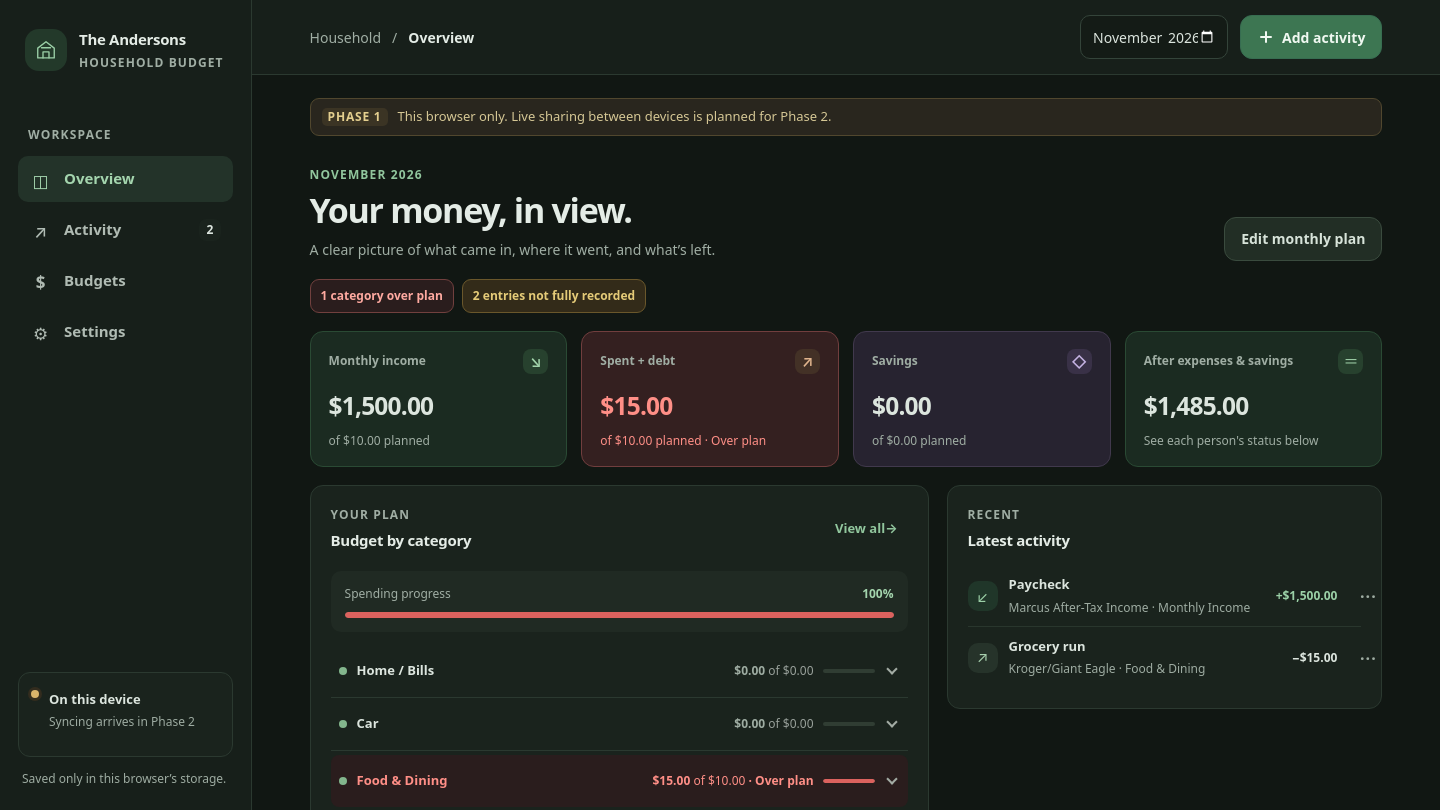
Test case: budget app phase 1 › uses the household name and highlights overspending but not income
This screenshot has width=1440, height=810.
Expected: the text "The Andersons" is shown, [79,29,186,49]
Click the button "$ Budgets" at (126, 280), box [18,258,233,304]
(page scrolled)
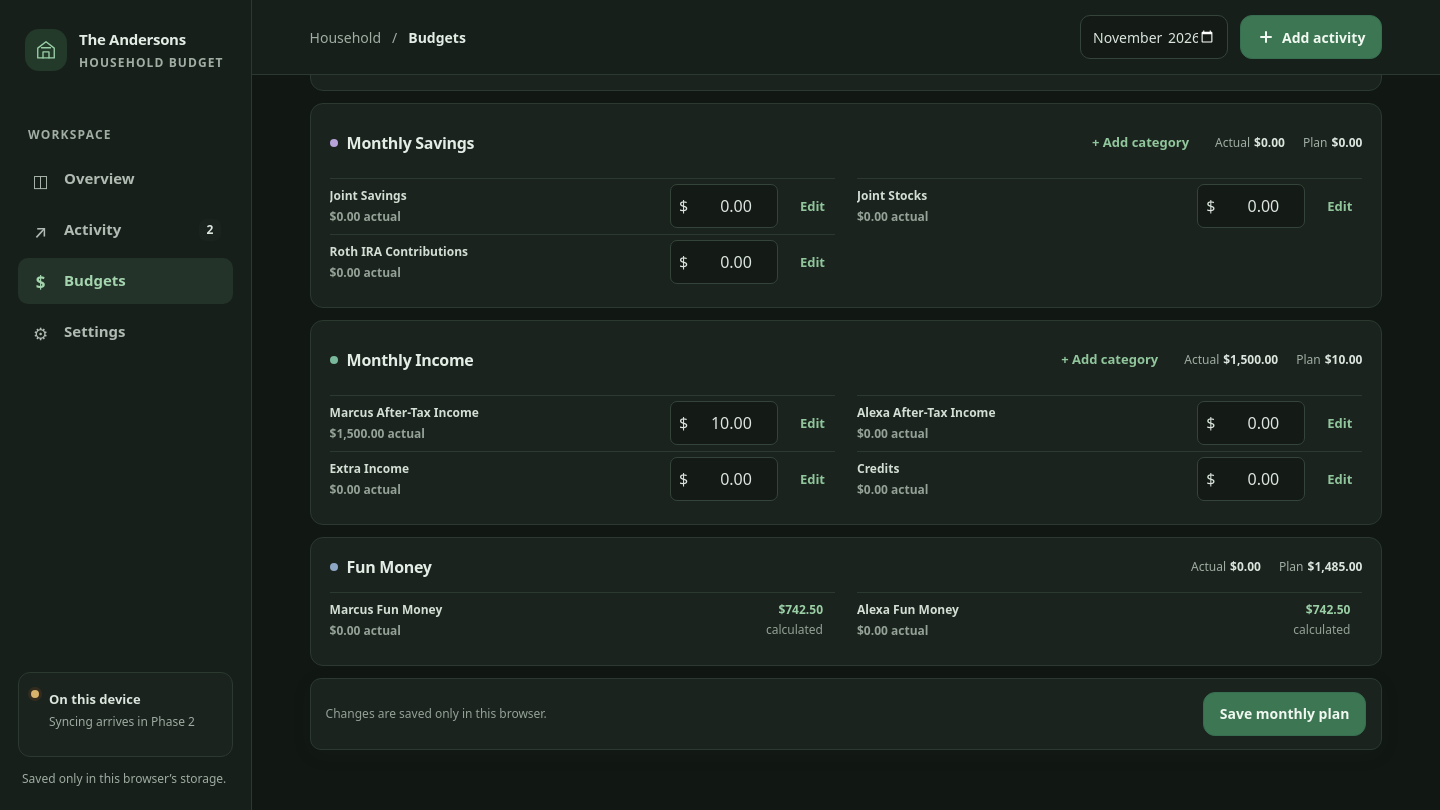
Expected: the number field named "Credits planned amount" is shown, [1218,466,1296,492]
